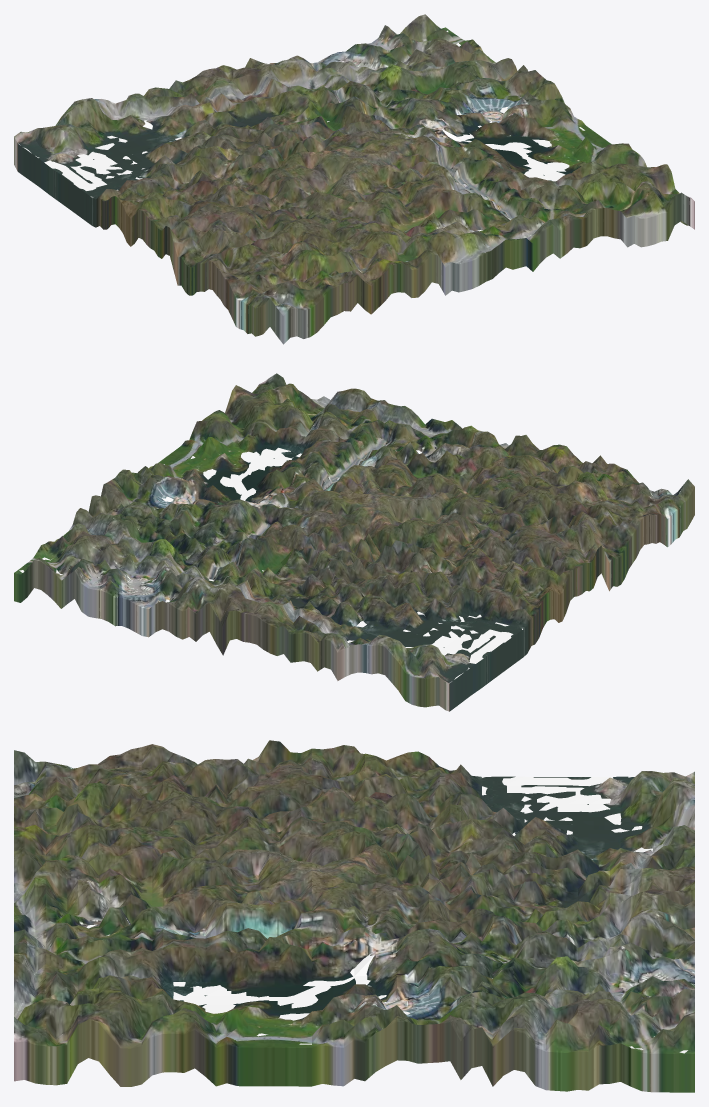
The picture shows the model from 3 angles, top to bottom: view 1: azimuth 30°, elevation 25°; view 2: azimuth 150°, elevation 25°; view 3: azimuth 270°, elevation 25°; orthographic projection. The views are drawn at different scales.
Visible parts, largest first — view 1: surface, ground; view 2: surface, ground; view 3: surface, ground.
Part boxes in pixels (bbox=[...]): surface: bbox=[14, 14, 694, 344]; ground: bbox=[18, 30, 584, 272]; surface: bbox=[14, 373, 694, 711]; ground: bbox=[19, 447, 522, 683]; surface: bbox=[14, 740, 694, 1092]; ground: bbox=[86, 776, 694, 1053].
Size of the model in its own units: 512 by 74.29 by 512.
2 materials, 1 textured.
